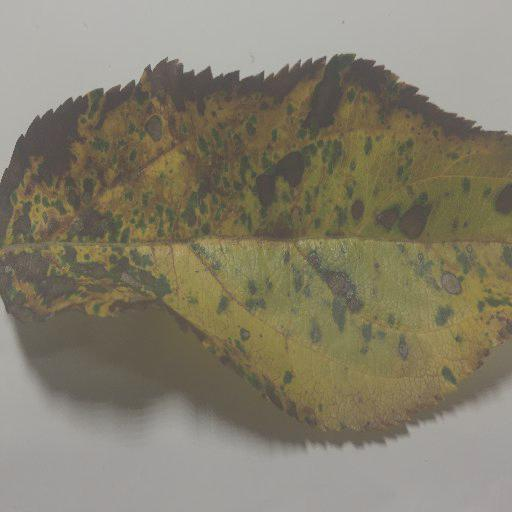Brown_Spot: (1, 55, 512, 458)
